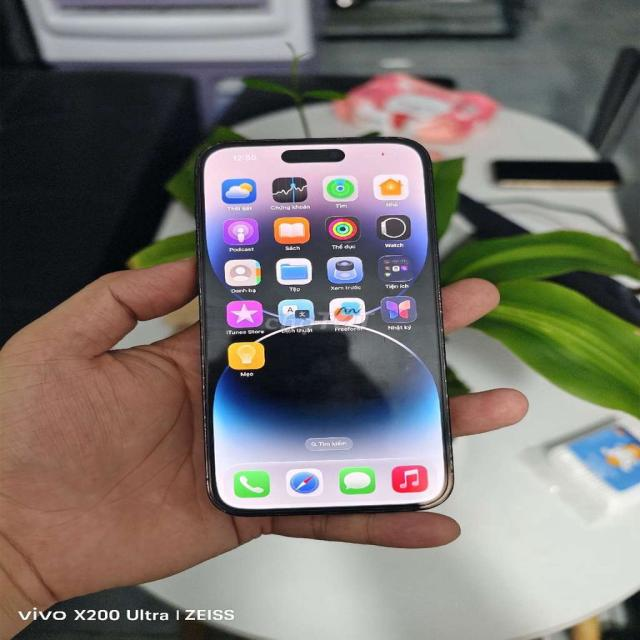scratch: (184, 206, 216, 499), (433, 271, 457, 490), (190, 132, 228, 170)
